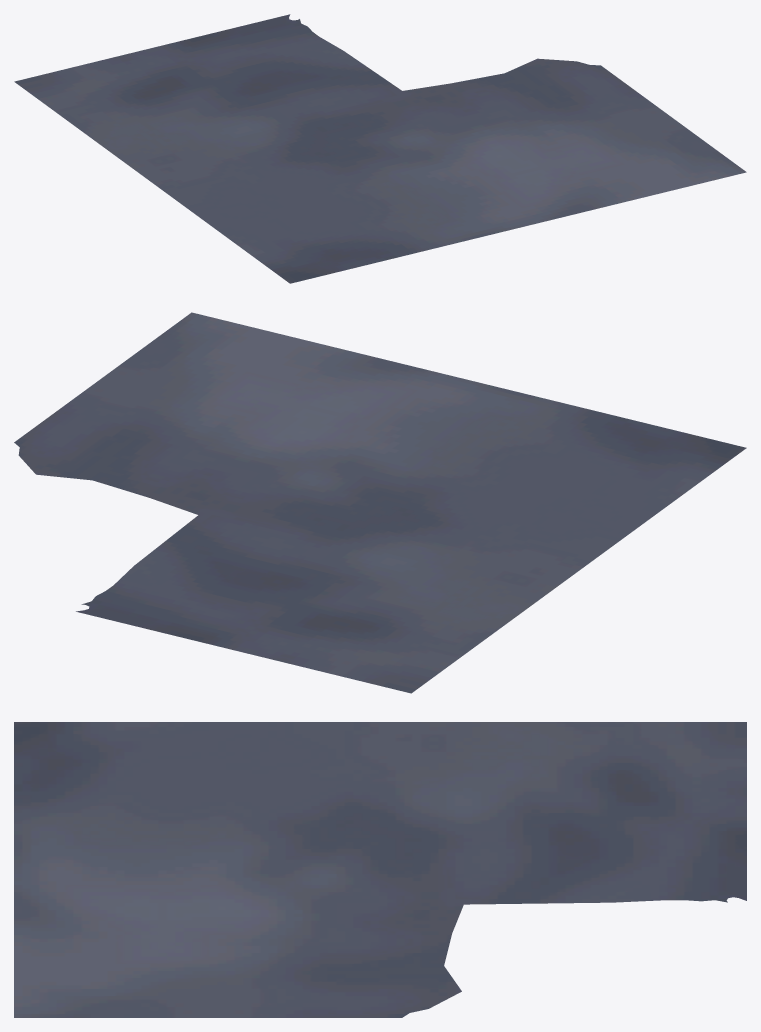
File: WaterPlane_Ca.fbx
The picture shows the model from 3 angles, top to bottom: view 1: azimuth 30°, elevation 25°; view 2: azimuth 150°, elevation 25°; view 3: azimuth 270°, elevation 25°; orthographic projection. The views are drawn at different scales.
Parts seen in each view (by area): view 1: SM_ENV_AMVLLG02_WaterPlane_Ca.mo; view 2: SM_ENV_AMVLLG02_WaterPlane_Ca.mo; view 3: SM_ENV_AMVLLG02_WaterPlane_Ca.mo.
Boxes of the visible parts, bbox=[...] form: SM_ENV_AMVLLG02_WaterPlane_Ca.mo: bbox=[14, 14, 746, 283]; SM_ENV_AMVLLG02_WaterPlane_Ca.mo: bbox=[14, 312, 746, 693]; SM_ENV_AMVLLG02_WaterPlane_Ca.mo: bbox=[14, 722, 746, 1017].
Size of the model in its own units: 28752 by 0.0049 by 30100.
